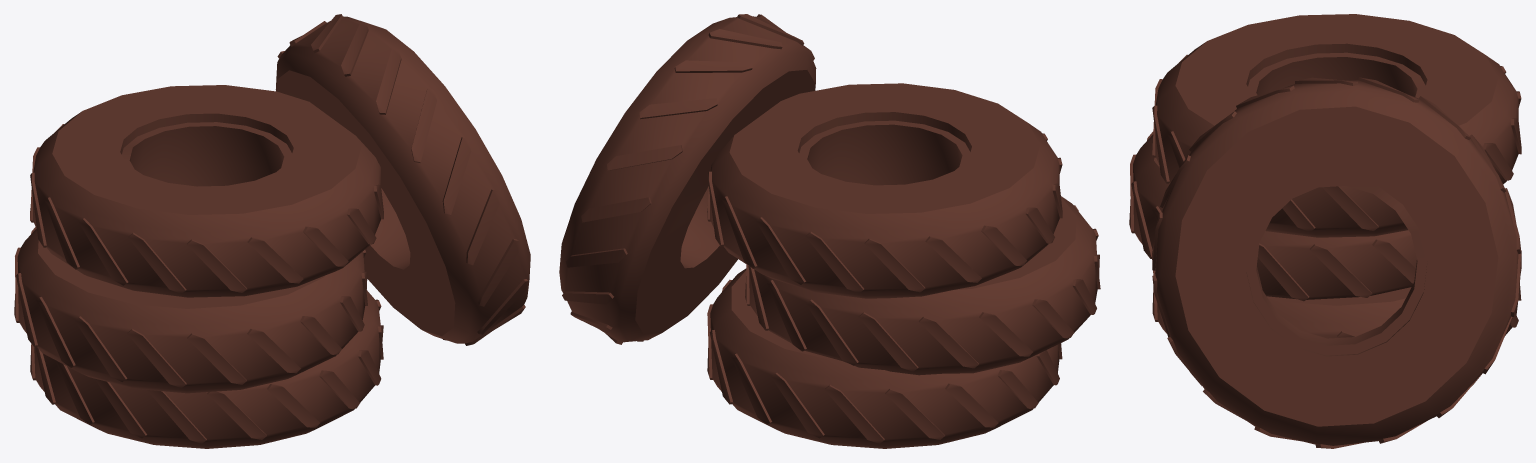
Rendered from PP_TirePile_01.fbx.
The picture shows the model from 3 angles, left to right: view 1: azimuth 30°, elevation 25°; view 2: azimuth 150°, elevation 25°; view 3: azimuth 270°, elevation 25°; orthographic projection. The views are drawn at different scales.
Visible parts, largest first — view 1: SM_TirePile_01; view 2: SM_TirePile_01; view 3: SM_TirePile_01.
Part boxes in pixels (left/top/right/bottom): SM_TirePile_01: left=14, top=14, right=530, bottom=448; SM_TirePile_01: left=559, top=14, right=1100, bottom=448; SM_TirePile_01: left=1129, top=14, right=1521, bottom=448.
Bounding box in the file's own units: 1.23 × 0.8718 × 0.8087.
